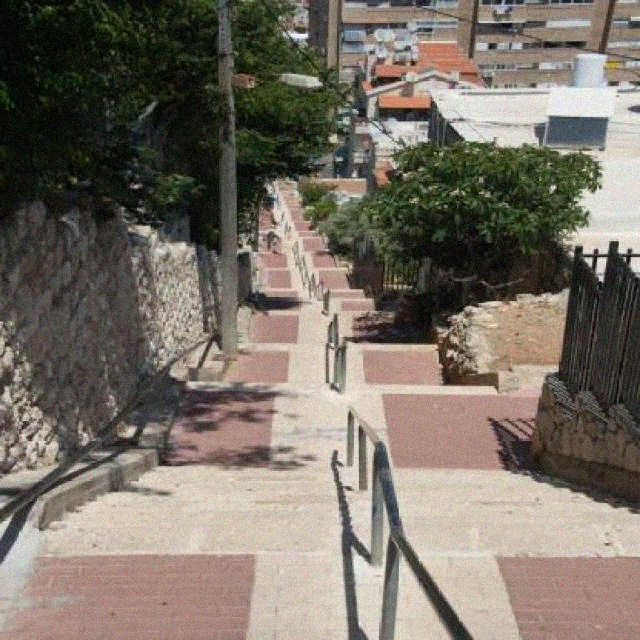stair: (0, 181, 640, 640)
